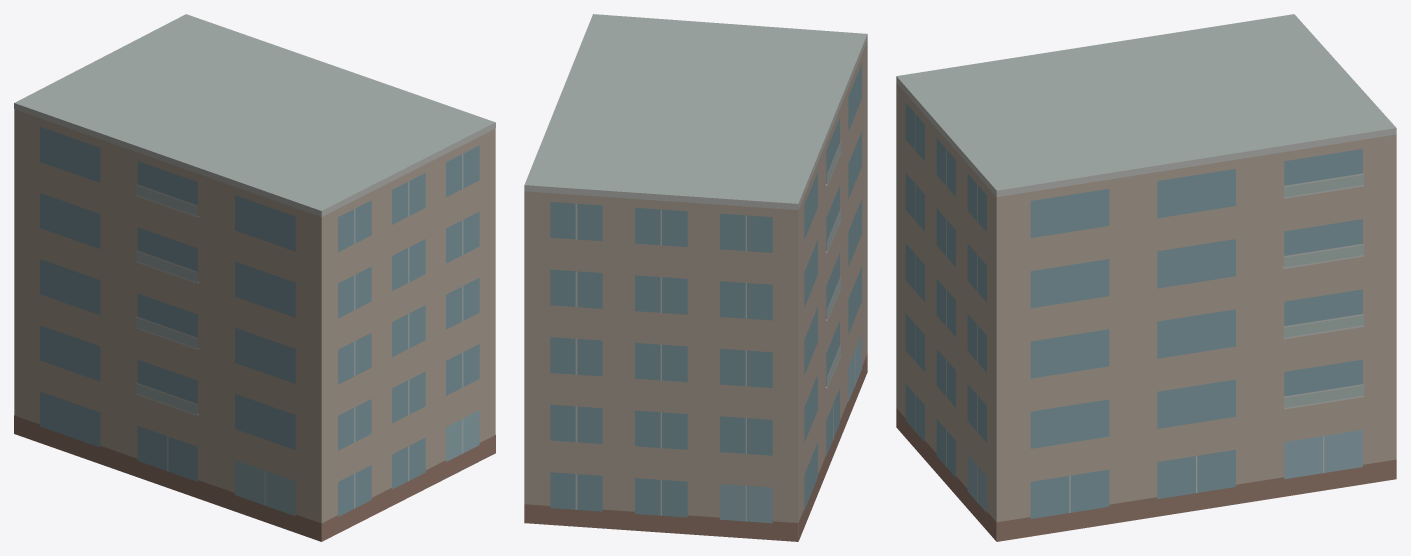
Rendered from survey-upis-32534439.glb.
3 views of the same model, side by side, from view 1: azimuth 30°, elevation 25°; view 2: azimuth 150°, elevation 25°; view 3: azimuth 270°, elevation 25° (orthographic). The views are drawn at different scales.
Visible parts, largest first — view 1: survey-upis-32534439.tmp; view 2: survey-upis-32534439.tmp; view 3: survey-upis-32534439.tmp.
Boxes of the visible parts, x1,y1,x2,y2 form: survey-upis-32534439.tmp: (14,14,495,541); survey-upis-32534439.tmp: (524,14,867,541); survey-upis-32534439.tmp: (896,14,1396,541).
Size of the model in its own units: 14.31 by 13.25 by 17.12.
